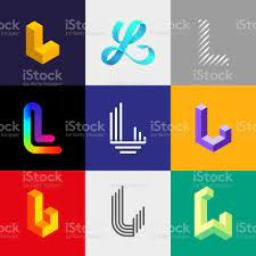l: (106, 172, 158, 242), (16, 100, 66, 156), (20, 18, 64, 68), (196, 18, 234, 70)
